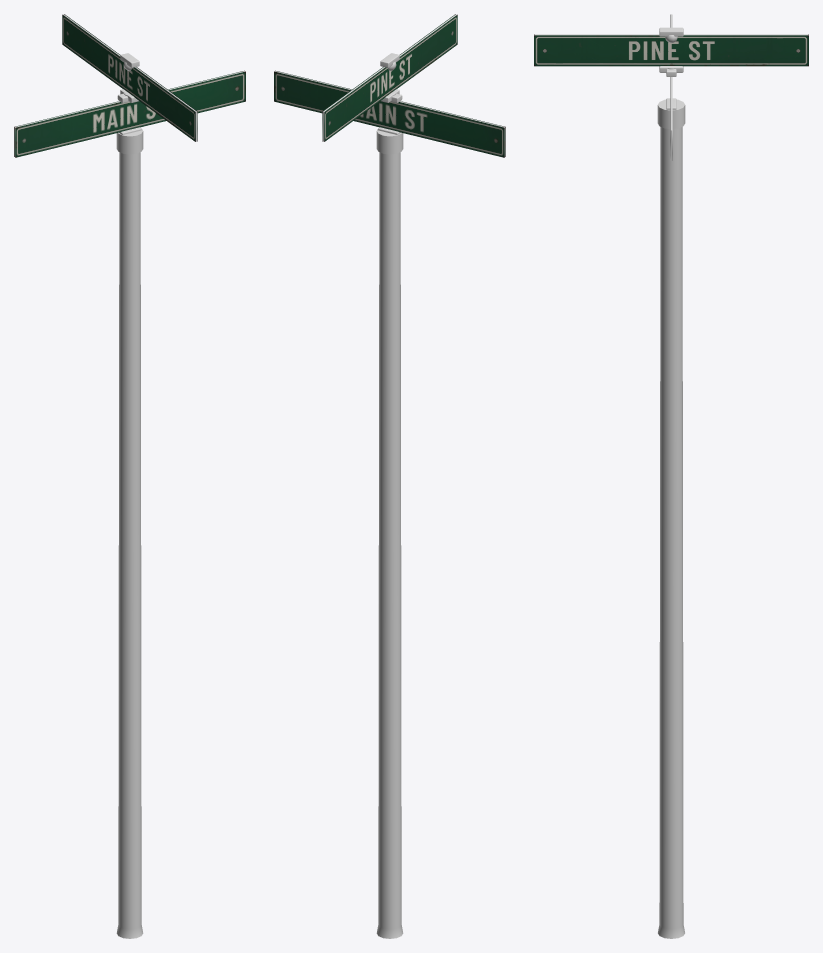
File: SM_Sign_Street_Main_Pine.fbx
3 renders of one model, left to right at view 1: azimuth 30°, elevation 25°; view 2: azimuth 150°, elevation 25°; view 3: azimuth 270°, elevation 25°, orthographic. The views are drawn at different scales.
Visible parts, largest first — view 1: SM_Sign_Street_Main_Pine_1; view 2: SM_Sign_Street_Main_Pine_1; view 3: SM_Sign_Street_Main_Pine_1.
Boxes of the visible parts, x1,y1,x2,y2 form: SM_Sign_Street_Main_Pine_1: [14, 14, 245, 938]; SM_Sign_Street_Main_Pine_1: [274, 14, 505, 938]; SM_Sign_Street_Main_Pine_1: [534, 14, 808, 938].
Bounding box in the file's own units: 80 × 290 × 80.
